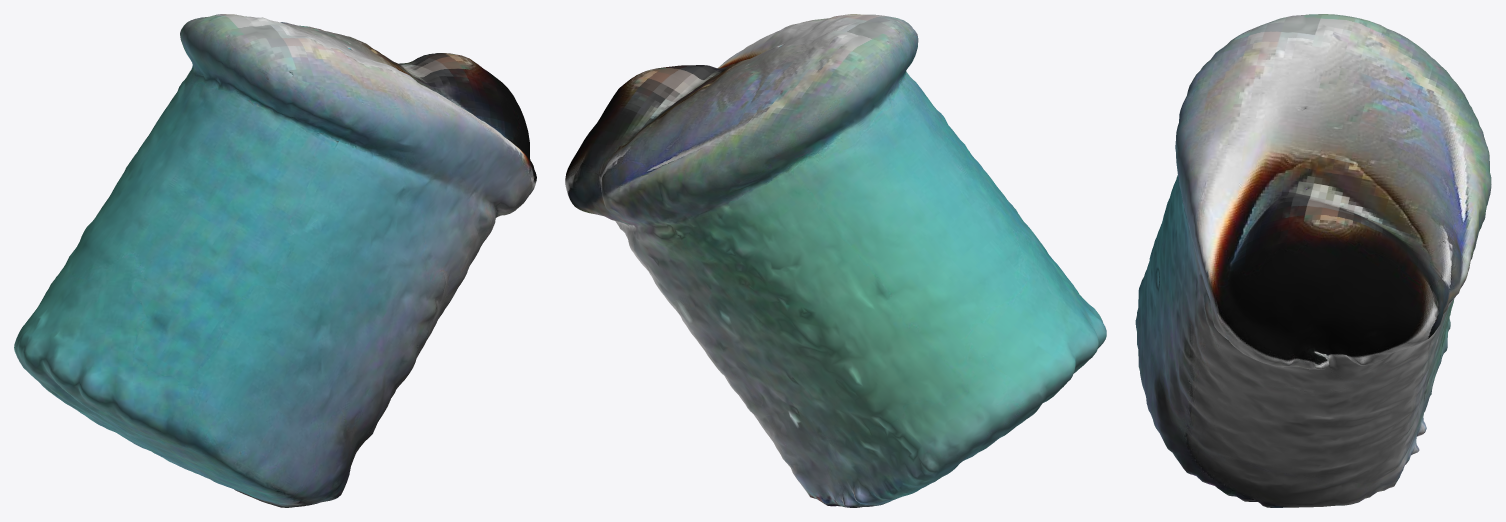
The picture shows the model from 3 angles, left to right: view 1: azimuth 30°, elevation 25°; view 2: azimuth 150°, elevation 25°; view 3: azimuth 270°, elevation 25°; orthographic projection. The views are drawn at different scales.
Visible parts, largest first — view 1: Mesh1; view 2: Mesh1; view 3: Mesh1.
Part boxes in pixels (x1,y1,x2,y2): Mesh1: (14, 14, 536, 507); Mesh1: (565, 14, 1106, 507); Mesh1: (1135, 14, 1491, 507).
Bounding box in the file's own units: 1.2 × 1.1 × 0.7624.
1 material, 1 textured.
